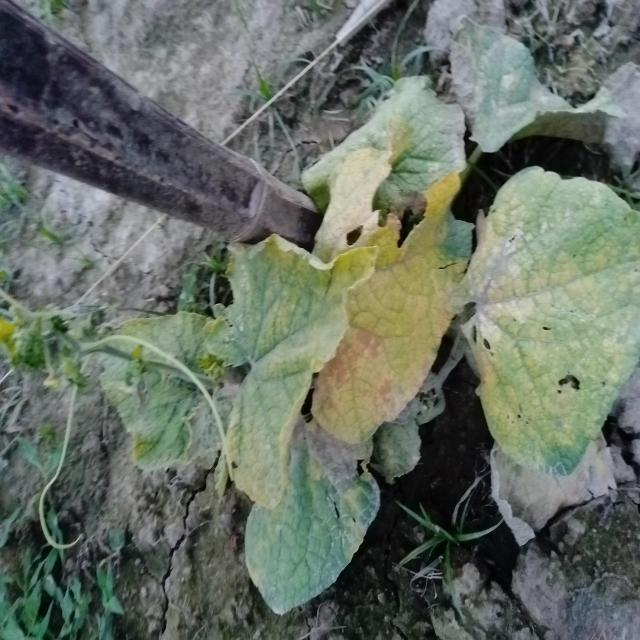cucumber_bacterial: (202, 230, 469, 486), (460, 159, 640, 469), (416, 7, 640, 166), (82, 268, 211, 485), (234, 438, 389, 616), (289, 92, 467, 238)
